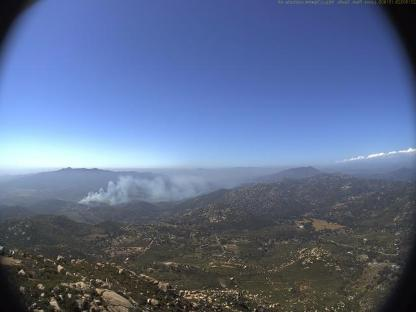smoke: (79, 171, 221, 206)
